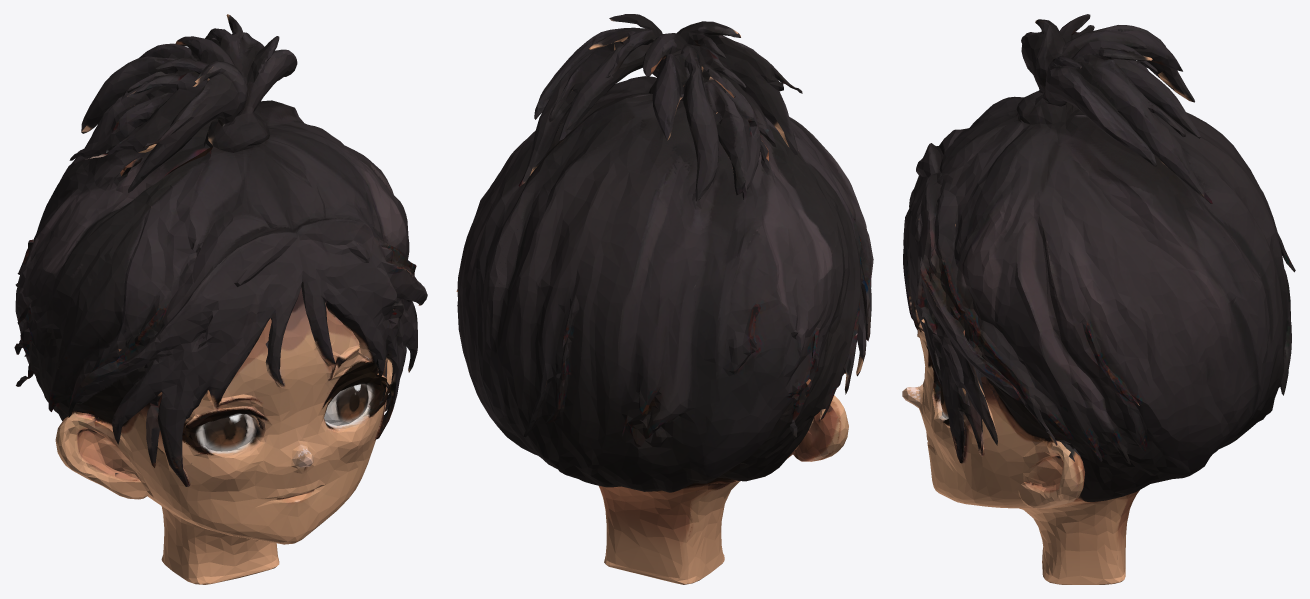
File: side_twin_repaired_atlas.glb
3 renders of one model, left to right at view 1: azimuth 30°, elevation 25°; view 2: azimuth 150°, elevation 25°; view 3: azimuth 270°, elevation 25°, orthographic. The views are drawn at different scales.
Parts seen in each view (by area): view 1: temp_mesh.ply; view 2: temp_mesh.ply; view 3: temp_mesh.ply.
Part boxes in pixels (x1,y1,x2,y2): temp_mesh.ply: (14, 14, 427, 584); temp_mesh.ply: (456, 14, 873, 584); temp_mesh.ply: (902, 14, 1295, 584).
Bounding box in the file's own units: 1.39 × 1.97 × 1.33.
Materials: 1 (1 with a texture image).
